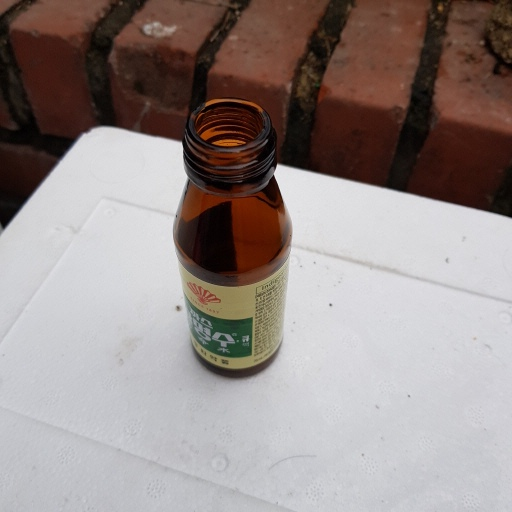Glass_3: (172, 98, 295, 382)
